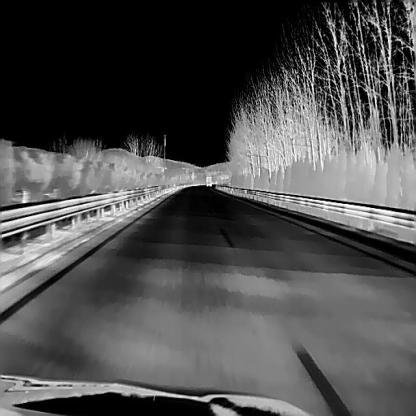car: (205, 175, 211, 185)
